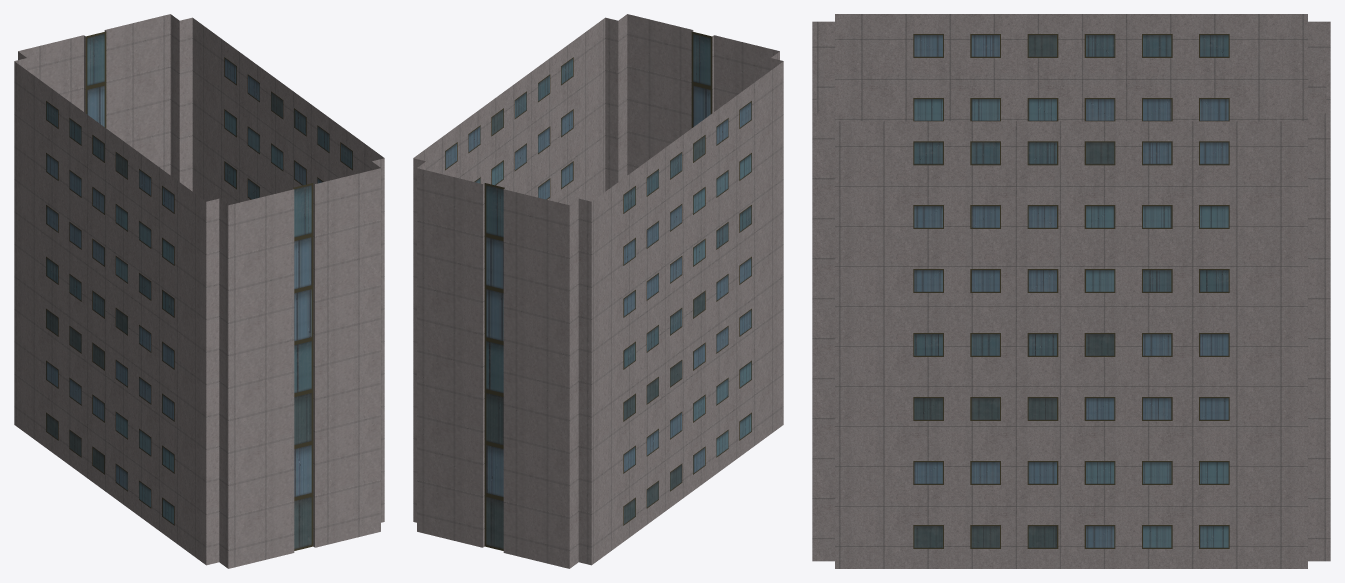
The model's file is jctBld24_12E_mdl_low.fbx.
3 views of the same model, side by side, from view 1: azimuth 30°, elevation 25°; view 2: azimuth 150°, elevation 25°; view 3: azimuth 270°, elevation 25° (orthographic). The views are drawn at different scales.
Visible parts, largest first — view 1: jctBld24_12E_mdl_low; view 2: jctBld24_12E_mdl_low; view 3: jctBld24_12E_mdl_low.
Boxes of the visible parts, x1,y1,x2,y2 form: jctBld24_12E_mdl_low: (14,14,384,568); jctBld24_12E_mdl_low: (413,14,783,568); jctBld24_12E_mdl_low: (812,14,1330,568).
Size of the model in its own units: 1150 by 2240 by 2350.
